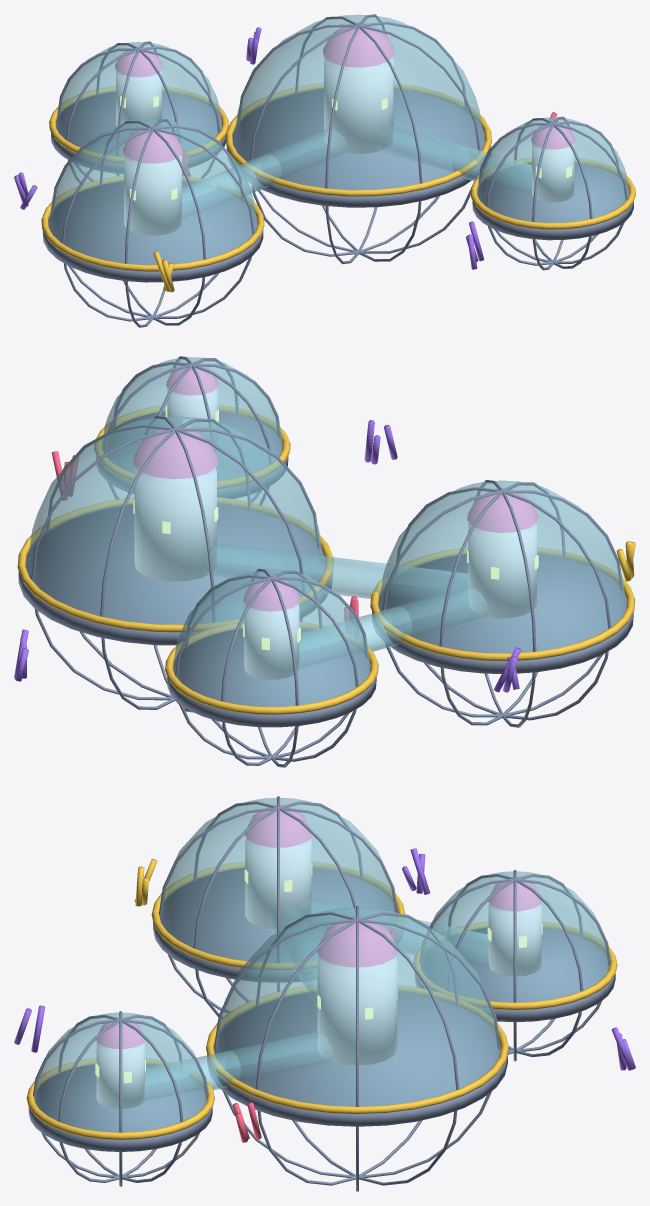
File: podmorske.glb
3 views of the same model, one above another, from view 1: azimuth 30°, elevation 25°; view 2: azimuth 150°, elevation 25°; view 3: azimuth 270°, elevation 25° (orthographic). The views are drawn at different scales.
Visible parts, largest first — view 1: podmorske; view 2: podmorske; view 3: podmorske.
Boxes of the visible parts, bbox=[...] form: podmorske: bbox=[14, 14, 635, 327]; podmorske: bbox=[14, 356, 635, 767]; podmorske: bbox=[14, 796, 635, 1191].
Bounding box in the file's own units: 16.61 × 7.28 × 15.77.
Materials: 3 (3 with a texture image).
